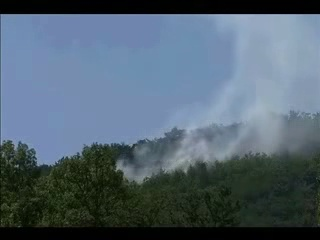smoke: (171, 20, 303, 153), (111, 128, 202, 184)
